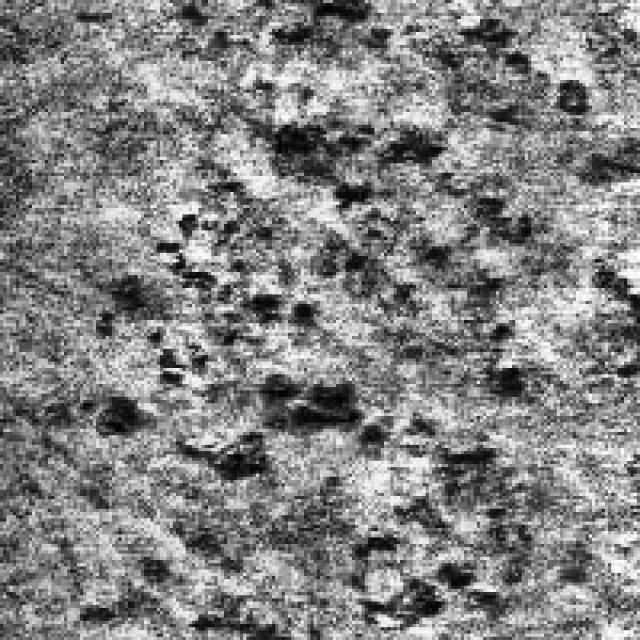Crazing: (67, 195, 499, 611)
